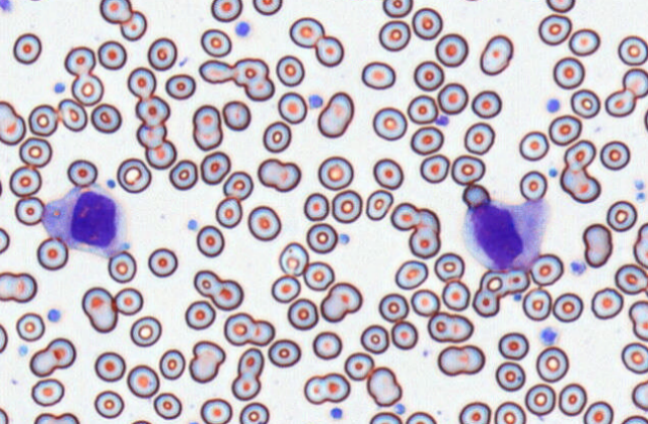MONO: (39, 183, 131, 259), (461, 198, 549, 274)
PLT: (537, 326, 561, 346), (233, 19, 252, 38), (569, 258, 587, 276), (307, 92, 324, 110), (545, 97, 562, 114), (435, 112, 452, 128), (46, 307, 62, 324), (185, 216, 200, 233), (0, 0, 15, 15), (337, 231, 352, 246), (52, 81, 67, 95), (329, 406, 343, 421), (105, 177, 119, 190), (548, 166, 559, 178), (513, 293, 523, 303)
RBC: (193, 269, 243, 310), (29, 337, 76, 377), (232, 57, 274, 101), (223, 311, 275, 346), (81, 286, 118, 333), (317, 91, 354, 138), (320, 281, 362, 322), (188, 340, 225, 383), (257, 157, 301, 192), (437, 344, 485, 376), (303, 372, 350, 404), (191, 104, 223, 151), (560, 166, 600, 203), (366, 366, 402, 407), (427, 311, 473, 342), (582, 223, 613, 268), (479, 34, 513, 75), (116, 157, 151, 193), (317, 155, 353, 190), (535, 346, 569, 382), (247, 205, 281, 241), (434, 32, 468, 67), (372, 106, 407, 140), (0, 271, 37, 303), (0, 100, 26, 145), (529, 253, 563, 286), (126, 364, 159, 398), (289, 16, 324, 48), (552, 56, 585, 89), (71, 72, 103, 106), (36, 236, 68, 270), (135, 95, 170, 126), (9, 164, 41, 197), (590, 287, 623, 319), (463, 121, 495, 154), (538, 13, 571, 45), (614, 263, 648, 294), (18, 136, 52, 167), (548, 114, 582, 145), (451, 154, 485, 185), (331, 189, 362, 223), (278, 241, 308, 276), (129, 315, 161, 347), (563, 139, 596, 170), (408, 225, 439, 258), (524, 383, 555, 416), (287, 297, 318, 330), (27, 103, 58, 136), (411, 7, 442, 40), (57, 98, 87, 132), (394, 259, 428, 289), (200, 151, 230, 185), (306, 222, 337, 254), (606, 200, 637, 232), (372, 157, 403, 189), (617, 34, 648, 66), (437, 82, 468, 114), (378, 20, 410, 51), (126, 66, 156, 99), (277, 91, 307, 124), (147, 37, 177, 70), (558, 382, 587, 416), (522, 287, 551, 321), (267, 338, 301, 367), (361, 60, 395, 89), (64, 45, 95, 76), (184, 299, 215, 330), (303, 260, 334, 291), (94, 351, 125, 382), (518, 130, 549, 161), (90, 102, 121, 133), (413, 60, 444, 91), (314, 35, 344, 67), (275, 54, 305, 86), (168, 158, 198, 190), (107, 250, 136, 283), (410, 126, 443, 155), (262, 120, 291, 153), (30, 378, 64, 406), (145, 139, 176, 169), (343, 351, 374, 381), (433, 252, 464, 282), (222, 170, 253, 200), (147, 247, 178, 277), (552, 292, 583, 322), (407, 94, 438, 124), (599, 140, 630, 170), (441, 279, 470, 311), (604, 88, 636, 117), (12, 32, 41, 64), (196, 224, 224, 257), (198, 59, 234, 84), (495, 361, 525, 391), (378, 292, 408, 322), (419, 153, 449, 183), (97, 40, 127, 70), (570, 88, 600, 118), (498, 331, 529, 360), (222, 100, 251, 131), (93, 389, 124, 418), (66, 158, 97, 187), (200, 28, 231, 57), (119, 9, 147, 41), (568, 28, 600, 56), (390, 202, 420, 231), (270, 274, 300, 303), (14, 196, 44, 225), (410, 288, 440, 317), (312, 330, 342, 359), (15, 312, 45, 341), (360, 324, 389, 354), (471, 89, 501, 118), (519, 170, 547, 201), (365, 189, 393, 220), (158, 348, 185, 380), (215, 196, 242, 228), (621, 342, 648, 374), (199, 397, 232, 423), (231, 371, 260, 400), (113, 287, 143, 315), (165, 73, 196, 100), (628, 300, 648, 341), (390, 320, 418, 349), (136, 122, 166, 149), (622, 67, 648, 98), (99, 0, 132, 24), (472, 288, 499, 317), (153, 392, 182, 419), (303, 192, 329, 221), (458, 401, 491, 423), (461, 183, 490, 208), (633, 222, 648, 269), (210, 0, 242, 22), (480, 269, 506, 296), (583, 400, 613, 423), (238, 401, 269, 423), (494, 401, 525, 423), (504, 269, 529, 294), (416, 207, 439, 233), (382, 0, 412, 17), (33, 412, 79, 423), (631, 380, 647, 411), (252, 0, 282, 15), (368, 411, 402, 423), (545, 0, 575, 13), (405, 411, 436, 423), (0, 226, 10, 254), (619, 414, 647, 423), (0, 323, 8, 353), (0, 407, 9, 423), (644, 104, 648, 136), (129, 419, 152, 424), (300, 420, 327, 424), (644, 271, 648, 298), (0, 169, 3, 199), (457, 0, 487, 1)
